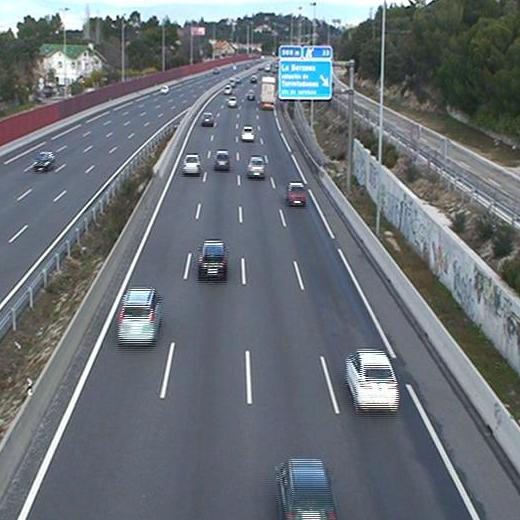car: (274, 459, 339, 520), (346, 350, 401, 411), (117, 287, 163, 342), (199, 239, 230, 277), (287, 182, 308, 205), (247, 156, 265, 177), (183, 155, 201, 174), (214, 150, 231, 169), (241, 124, 257, 138), (201, 112, 215, 124), (227, 96, 238, 107)
truck: (260, 75, 278, 112)
